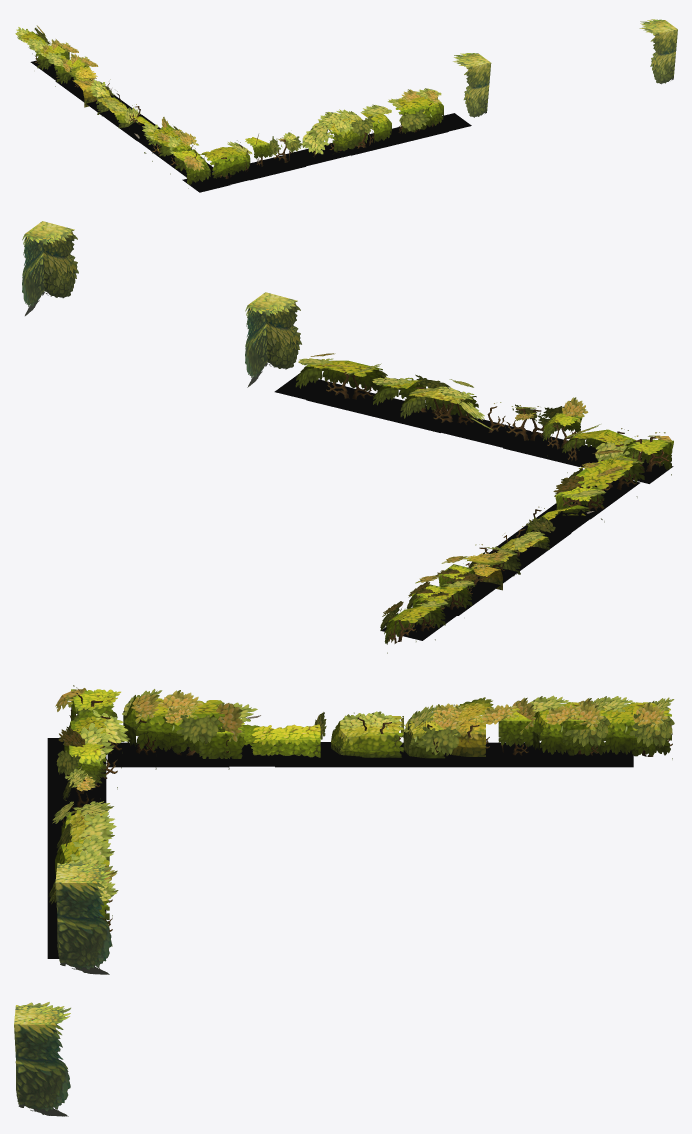
File: K1_oldhedgerow1_1.FBX
The picture shows the model from 3 angles, top to bottom: view 1: azimuth 30°, elevation 25°; view 2: azimuth 150°, elevation 25°; view 3: azimuth 270°, elevation 25°; orthographic projection. The views are drawn at different scales.
Visible parts, largest first — view 1: k1_oldcao323, k1_oldcao326, k1_oldcao578, k1_oldcao573, k1_oldcao315, k1_oldcao319, k1_oldcao163, k1_oldcao324, k1_oldcao581, k1_oldcao310, k1_oldcao316, k1_oldcao320 (+10 smaller); view 2: k1_oldcao573, k1_oldcao578, k1_oldcao163, k1_oldcao326, k1_oldcao581, k1_oldcao174, k1_oldcao323, k1_oldcao315, k1_oldcao310, k1_oldcao316, k1_oldcao171, k1_oldcao320 (+8 smaller); view 3: k1_oldcao315, k1_oldcao573, k1_oldcao578, k1_oldcao310, k1_oldcao174, k1_oldcao581, k1_oldcao316, k1_oldcao169, k1_oldcao171, k1_oldcao320, k1_oldcao323, k1_oldcao170 (+8 smaller).
Part boxes in pixels (bbox=[...]): k1_oldcao323: bbox=[302, 109, 367, 154]; k1_oldcao326: bbox=[387, 88, 443, 133]; k1_oldcao578: bbox=[639, 19, 677, 84]; k1_oldcao573: bbox=[453, 53, 491, 117]; k1_oldcao315: bbox=[72, 77, 133, 128]; k1_oldcao319: bbox=[199, 141, 252, 178]; k1_oldcao163: bbox=[286, 135, 384, 166]; k1_oldcao324: bbox=[350, 104, 391, 142]; k1_oldcao581: bbox=[15, 25, 78, 70]; k1_oldcao310: bbox=[35, 39, 98, 83]; k1_oldcao316: bbox=[147, 124, 198, 171]; k1_oldcao320: bbox=[245, 132, 303, 158]; k1_oldcao573: bbox=[245, 292, 301, 387]; k1_oldcao578: bbox=[22, 221, 78, 315]; k1_oldcao163: bbox=[395, 405, 530, 448]; k1_oldcao326: bbox=[295, 353, 387, 390]; k1_oldcao581: bbox=[380, 575, 450, 644]; k1_oldcao174: bbox=[525, 462, 605, 534]; k1_oldcao323: bbox=[400, 379, 492, 429]; k1_oldcao315: bbox=[468, 531, 549, 590]; k1_oldcao310: bbox=[407, 556, 476, 608]; k1_oldcao316: bbox=[567, 450, 644, 503]; k1_oldcao171: bbox=[495, 502, 607, 558]; k1_oldcao320: bbox=[512, 397, 588, 440]; k1_oldcao315: bbox=[331, 703, 485, 758]; k1_oldcao573: bbox=[55, 860, 112, 974]; k1_oldcao578: bbox=[14, 1002, 70, 1116]; k1_oldcao310: bbox=[482, 695, 610, 755]; k1_oldcao174: bbox=[165, 702, 326, 758]; k1_oldcao581: bbox=[546, 696, 674, 756]; k1_oldcao316: bbox=[122, 689, 224, 753]; k1_oldcao169: bbox=[275, 742, 526, 767]; k1_oldcao171: bbox=[186, 742, 361, 766]; k1_oldcao320: bbox=[56, 727, 103, 799]; k1_oldcao323: bbox=[52, 801, 116, 866]; k1_oldcao170: bbox=[526, 742, 633, 767].
Size of the model in its own units: 1495 by 186 by 1081.
